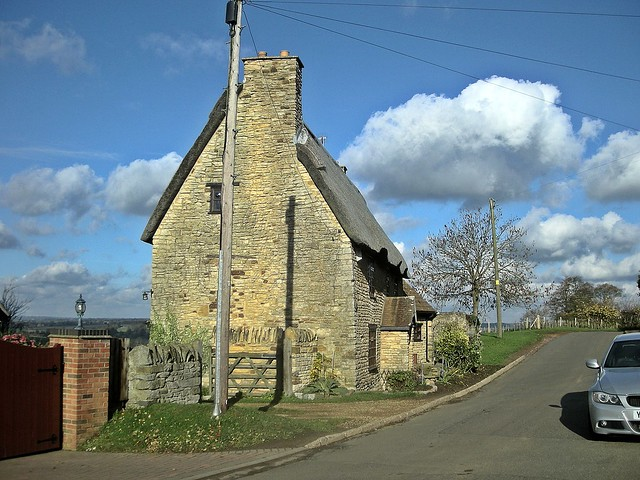low: (134, 52, 437, 405)
